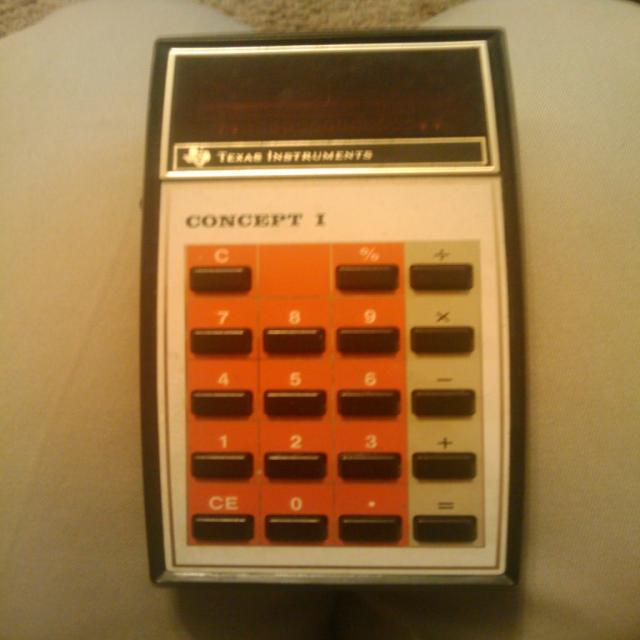Calculator: (141, 22, 503, 586)
